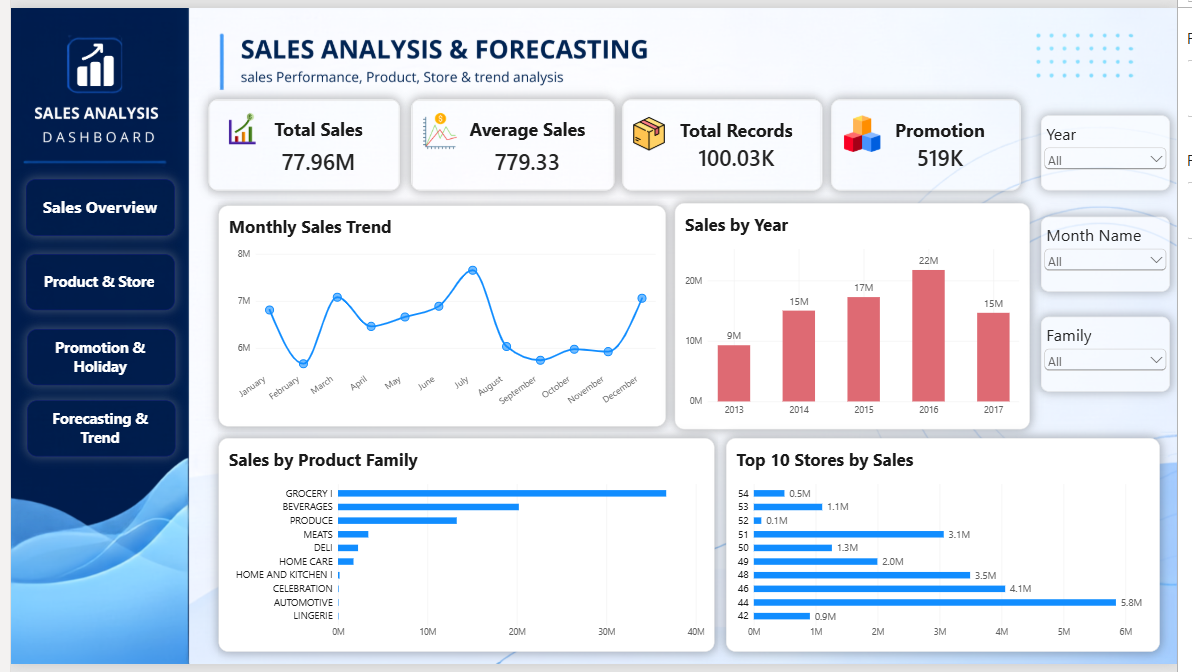

The page's visual inventory and layout, read from the dashboard file:
{"tool":"powerbi","page":{"name":"Sales Overview ","canvas":[1920,1080],"ordinal":0},"visuals":[{"type":"cardVisual","fields":{"Data":["Sum(Sales_Cleaned_Final.sales)"]},"box":[325.2,150.3,314.9,150.3],"z":0},{"type":"image","box":[341.7,168.8,78.2,59.7],"z":1000},{"type":"cardVisual","fields":{"Data":["Avg(Sales_Cleaned_Final.sales)"]},"box":[658.7,150.3,335.5,150.3],"z":2000},{"type":"image","box":[658.7,168.8,94.7,67.9],"z":3000},{"type":"cardVisual","fields":{"Data":["CountNonNull(Sales_Cleaned_Final.id)"]},"box":[1006.5,150.3,329.3,150.3],"z":4000},{"type":"image","box":[1023,177,55.6,59.7],"z":5000},{"type":"cardVisual","fields":{"Data":["Sum(Sales_Cleaned_Final.onpromotion)"]},"box":[1350,150.3,312.9,150.3],"z":6000},{"type":"image","box":[1370.8,177,61.7,59.7],"z":7000},{"type":"lineChart","title":"Monthly Sales Trend","fields":{"Y":["Sum(Sales_Cleaned_Final.sales)"],"Category":["Sales_Cleaned_Final.Month Name"]},"box":[341.7,325.2,736.9,364.3],"z":8000},{"type":"clusteredColumnChart","title":"Sales by Year","fields":{"Y":["Sum(Sales_Cleaned_Final.sales)"],"Category":["Sales_Cleaned_Final.Year"]},"box":[1093,321.1,584.6,372.6],"z":9000},{"type":"barChart","title":"Sales by Product Family","fields":{"Category":["Sales_Cleaned_Final.family"],"Y":["Sum(Sales_Cleaned_Final.sales)"]},"box":[341.7,708.1,817.2,352],"z":10000},{"type":"barChart","title":"Top 10 Stores by Sales","fields":{"Y":["Sum(Sales_Cleaned_Final.sales)"],"Category":["Sales_Cleaned_Final.store_nbr"]},"box":[1177.4,708.1,714.2,352],"z":11000},{"type":"slicer","fields":{"Values":["Sales_Cleaned_Final.Year"]},"box":[1696.1,177,212,123.5],"z":12000},{"type":"slicer","fields":{"Values":["Sales_Cleaned_Final.Month Name"]},"box":[1696.1,343.7,212,123],"z":13000},{"type":"slicer","fields":{"Values":["Sales_Cleaned_Final.family"]},"box":[1696.1,508.4,212,123],"z":14000},{"type":"image","box":[96,53.5,84,80],"z":15000},{"type":"actionButton","box":[24.7,282,244.9,92.6],"z":16000},{"type":"actionButton","box":[24.7,405.5,244.9,92],"z":17000},{"type":"actionButton","box":[26.8,528,244,92],"z":18000},{"type":"actionButton","box":[26.8,646.3,244,92],"z":19000}]}

Visuals, with their boxes on the page's 1920x1080 design canvas (x1, y1, x2, y2). These are canvas units, not pixel positions in the 1192x672 screenshot, which may show the page scaled, cropped or inside an application window:
cardVisual - Sum(Sales_Cleaned_Final.sales): (left=325, top=150, right=640, bottom=301)
image: (left=342, top=169, right=420, bottom=228)
cardVisual - Avg(Sales_Cleaned_Final.sales): (left=659, top=150, right=994, bottom=301)
image: (left=659, top=169, right=753, bottom=237)
cardVisual - CountNonNull(Sales_Cleaned_Final.id): (left=1006, top=150, right=1336, bottom=301)
image: (left=1023, top=177, right=1079, bottom=237)
cardVisual - Sum(Sales_Cleaned_Final.onpromotion): (left=1350, top=150, right=1663, bottom=301)
image: (left=1371, top=177, right=1432, bottom=237)
"Monthly Sales Trend" lineChart: (left=342, top=325, right=1079, bottom=690)
"Sales by Year" clusteredColumnChart: (left=1093, top=321, right=1678, bottom=694)
"Sales by Product Family" barChart: (left=342, top=708, right=1159, bottom=1060)
"Top 10 Stores by Sales" barChart: (left=1177, top=708, right=1892, bottom=1060)
slicer - Sales_Cleaned_Final.Year: (left=1696, top=177, right=1908, bottom=300)
slicer - Sales_Cleaned_Final.Month Name: (left=1696, top=344, right=1908, bottom=467)
slicer - Sales_Cleaned_Final.family: (left=1696, top=508, right=1908, bottom=631)
image: (left=96, top=54, right=180, bottom=134)
actionButton: (left=25, top=282, right=270, bottom=375)
actionButton: (left=25, top=406, right=270, bottom=498)
actionButton: (left=27, top=528, right=271, bottom=620)
actionButton: (left=27, top=646, right=271, bottom=738)
